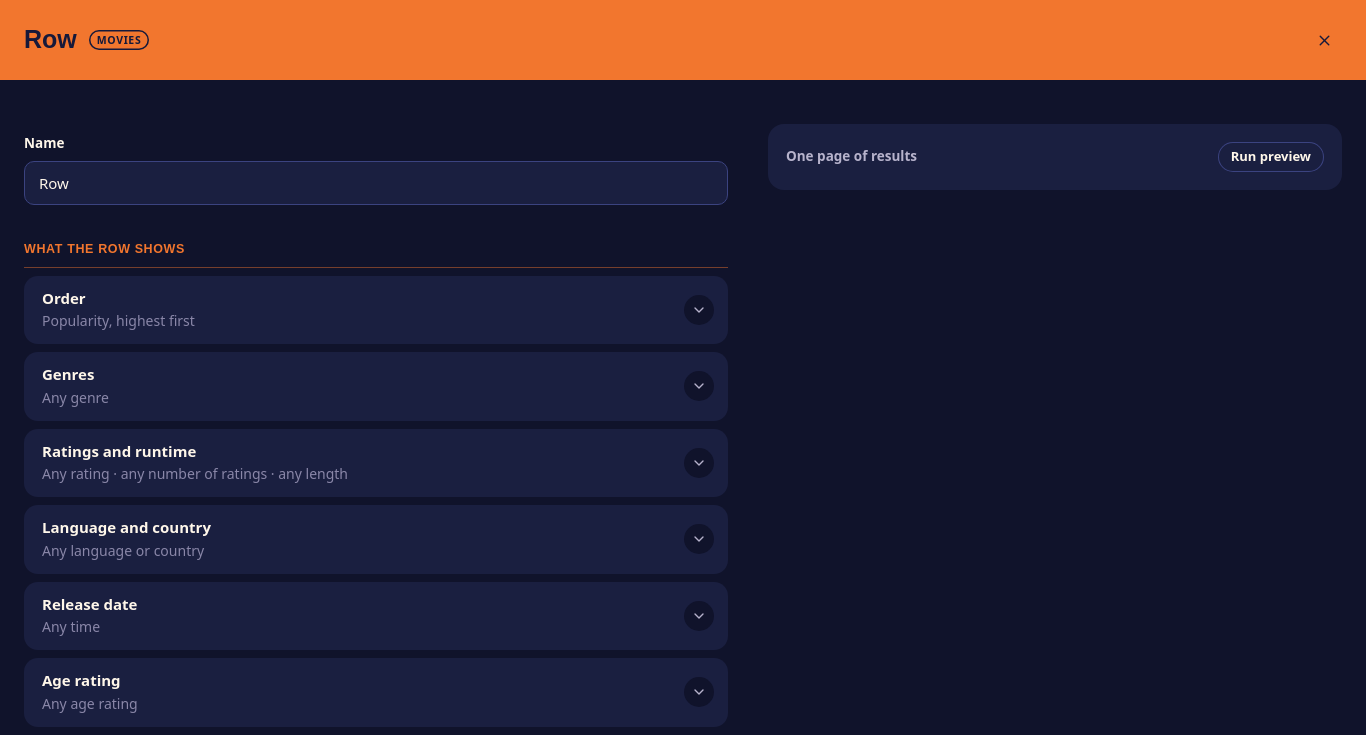
Test: CatalogEditor › shuffles from the Order section, and says so in its summary
Click the button "Order Popularity, highest first" at (64, 298), box x1=24 y1=276 x2=728 y2=344
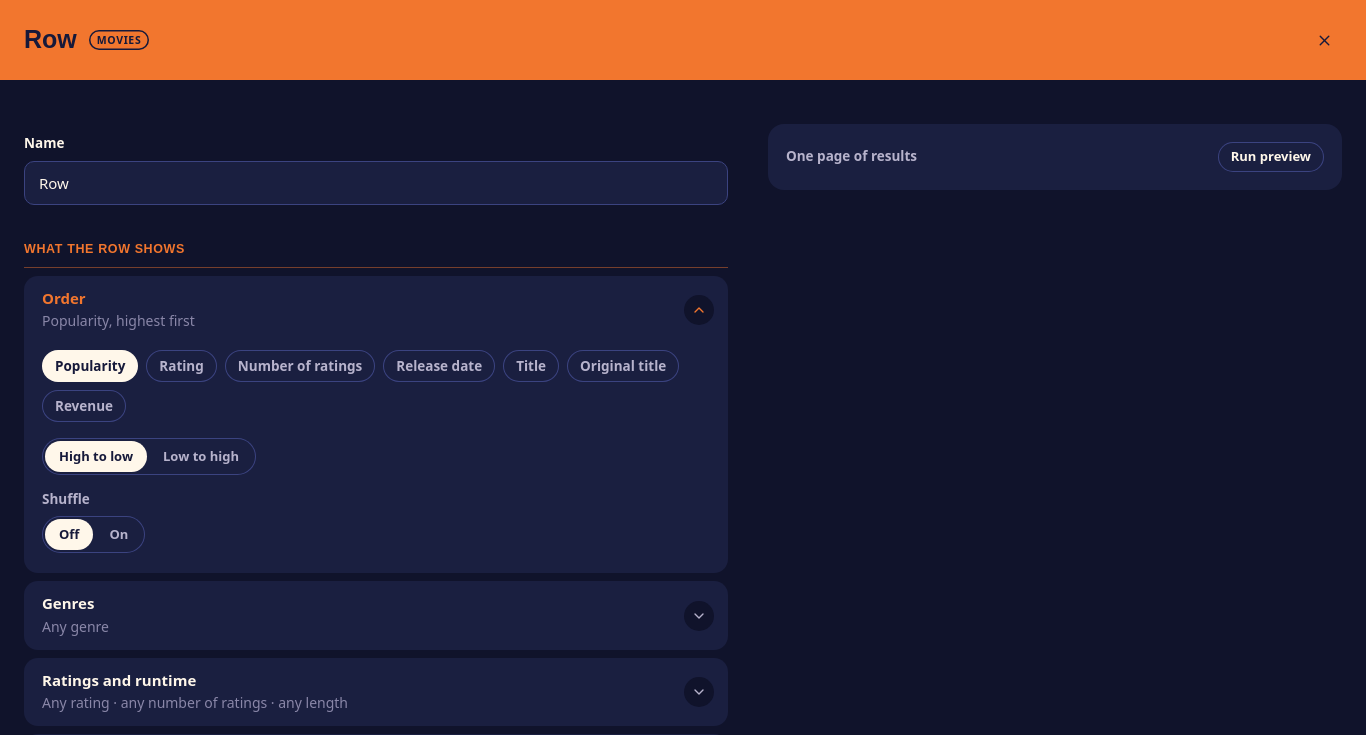
Click the button "On" at (119, 535), box x1=95 y1=519 x2=142 y2=550
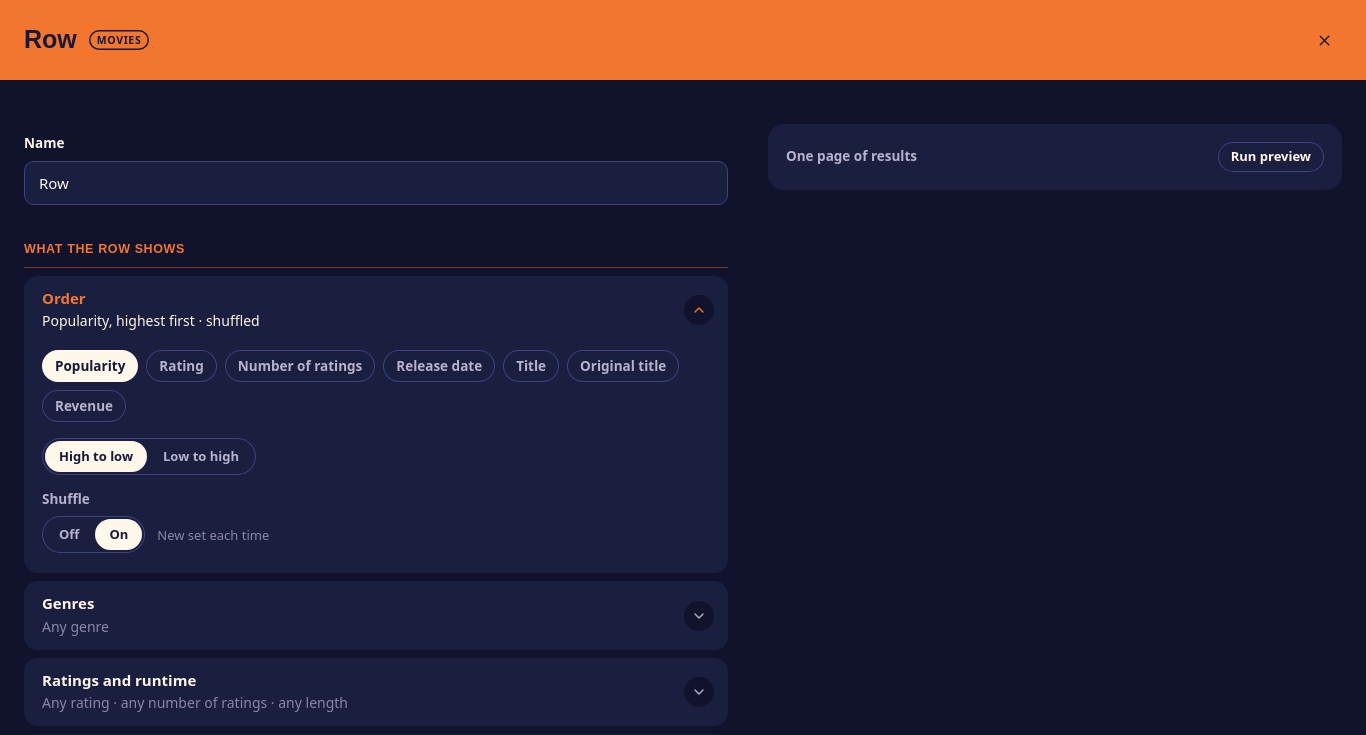
Expected: the button "Order Popularity, highest first · shuffled" is shown, x1=24 y1=276 x2=728 y2=344
Expected: the text "New set each time" is shown, x1=157 y1=526 x2=269 y2=544
